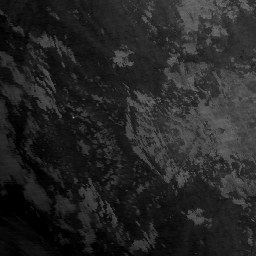Target: (71, 115, 76, 120)
